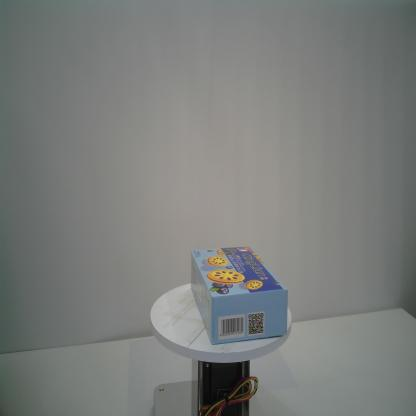Dessert: (190, 245, 289, 346)
